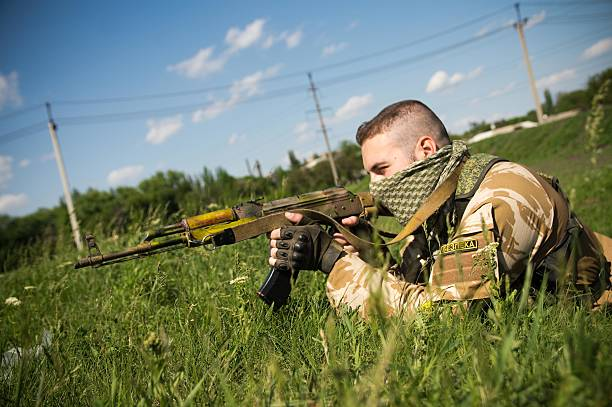rifle: (71, 184, 386, 322)
